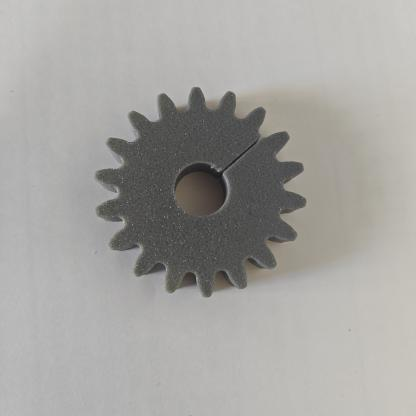defect: (192, 107, 283, 181)
gear: (91, 79, 321, 310)
